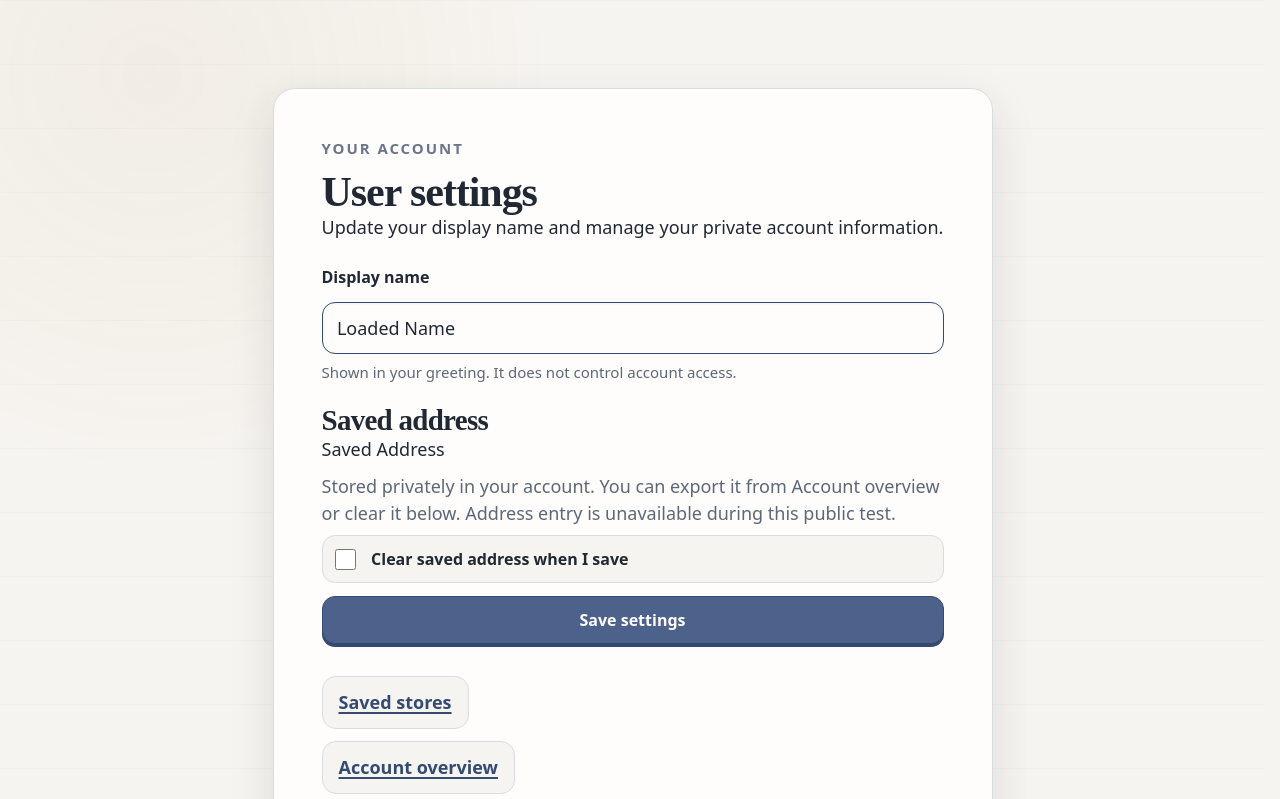
it: UserSettingsPage › reuses the attempt key after an ambiguous failure and requires reload on conflict
Expected: the field showing "Loaded Name" is shown, [322,302,944,354]
Click the button "Save settings" at point(632, 620), box [322,596,944,644]
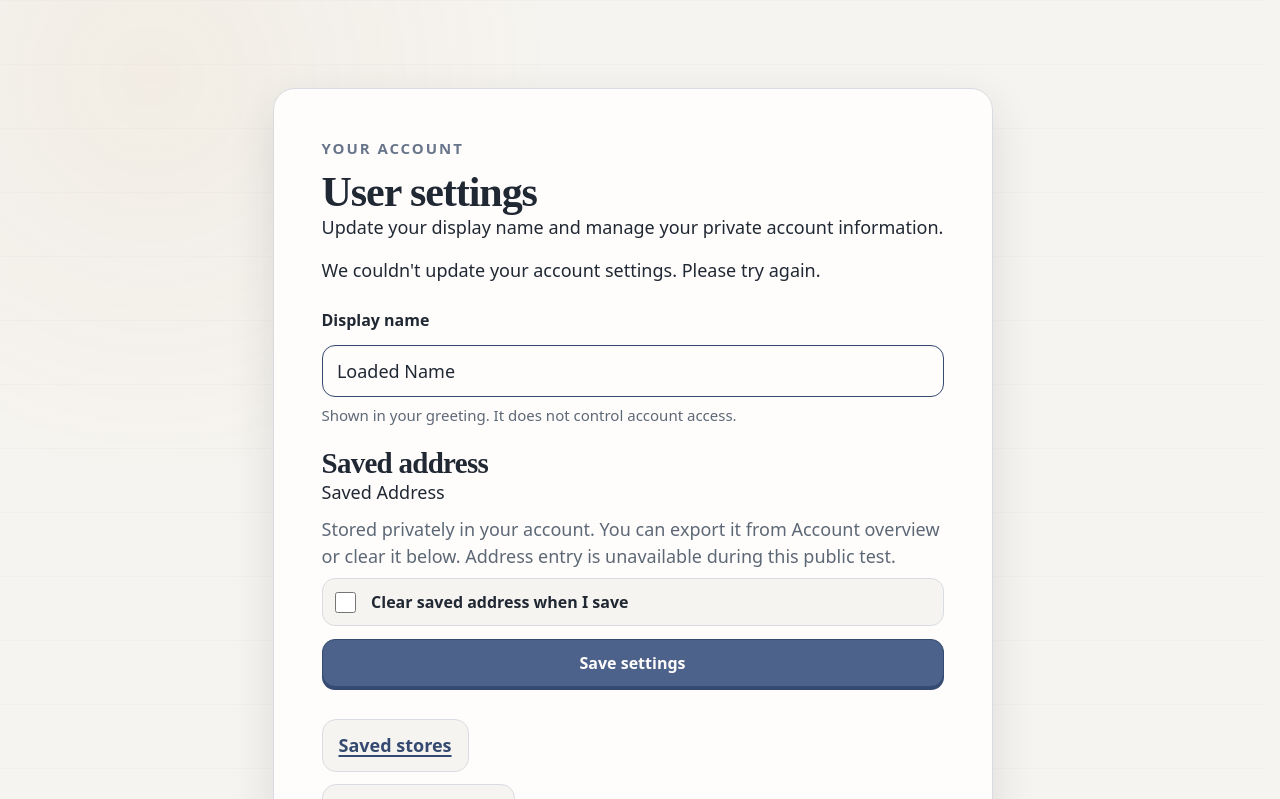
Expected: the message "We couldn't update your account settings. Please try again." is shown, [322,258,821,282]
Click the button "Save settings" at point(632, 663), box [322,639,944,687]
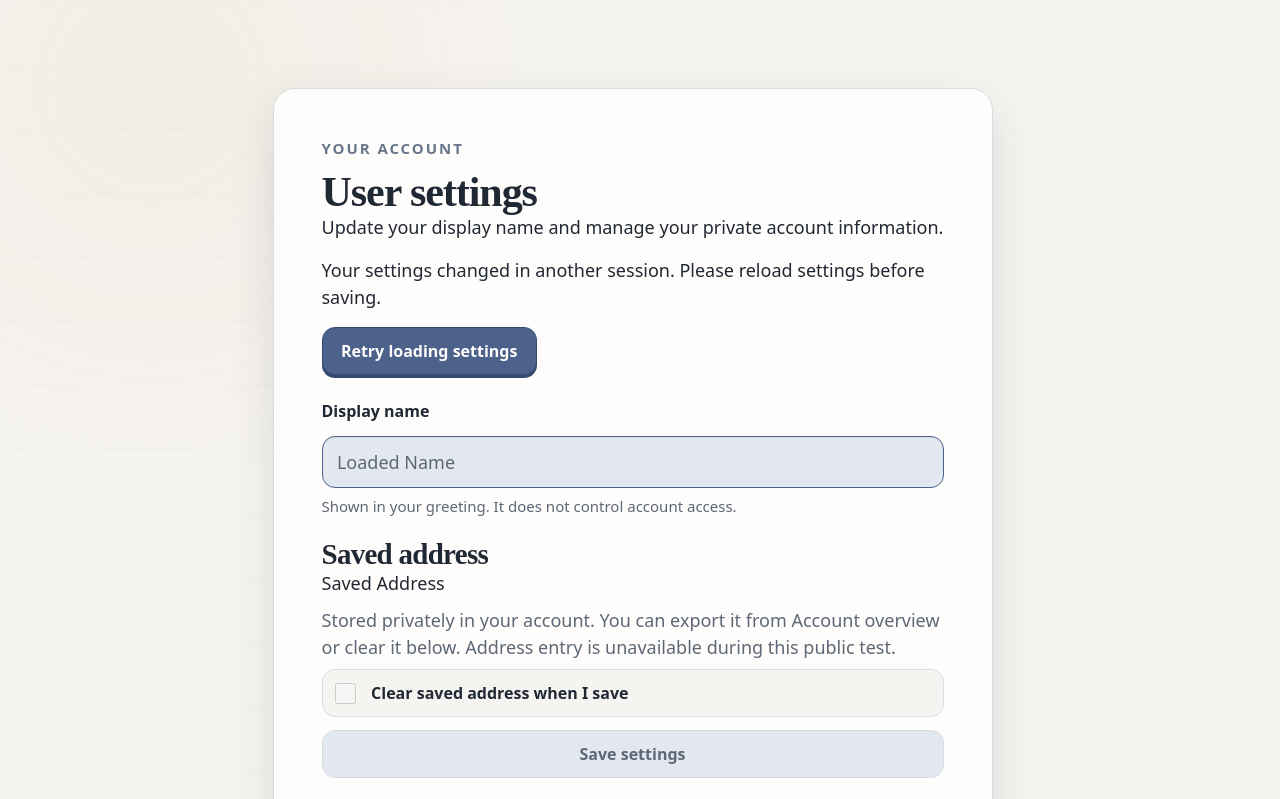
Expected: the message reads "Your settings changed in another session. Please reload settings before saving.", [322,258,925,309]
Expected: the button "Save settings" is disabled, [322,730,944,778]
Expected: the button "Retry loading settings" is shown, [322,327,537,375]
